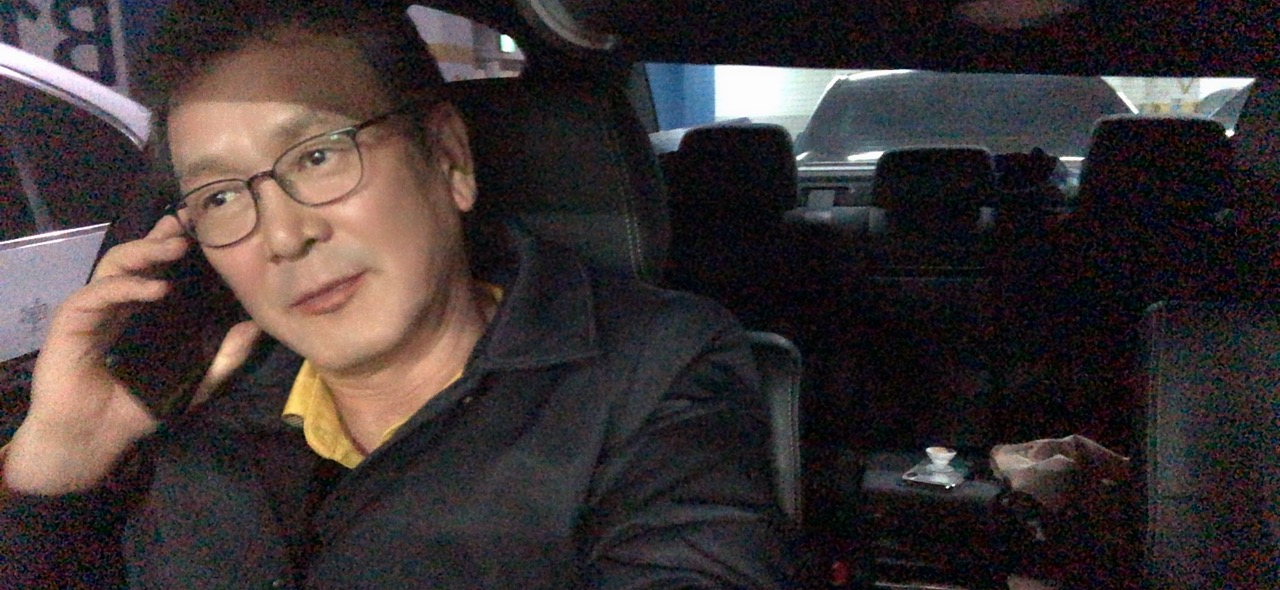phone: (3, 1, 809, 590)
